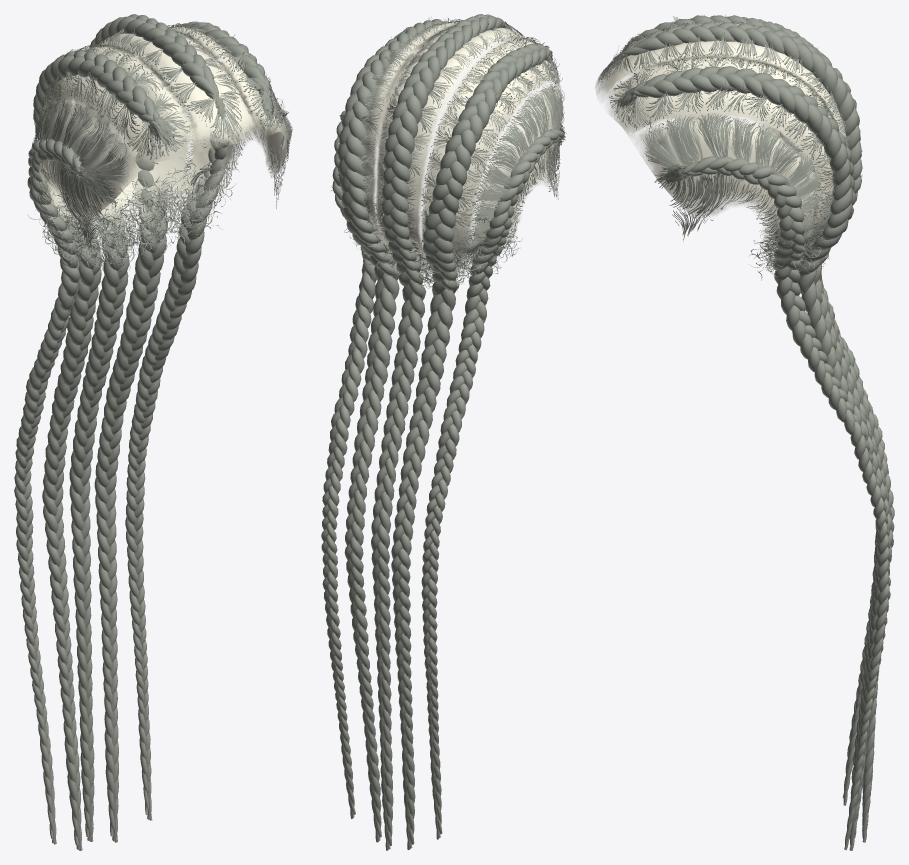
Rendered from Hair2.gltf.
3 views of the same model, side by side, from view 1: azimuth 30°, elevation 25°; view 2: azimuth 150°, elevation 25°; view 3: azimuth 270°, elevation 25° (orthographic). The views are drawn at different scales.
Visible parts, largest first — view 1: Imani Scalp_254252.Shape; view 2: Imani Scalp_254252.Shape; view 3: Imani Scalp_254252.Shape.
Part boxes in pixels (x1,y1,x2,y2): Imani Scalp_254252.Shape: (14,14,292,850); Imani Scalp_254252.Shape: (321,14,566,850); Imani Scalp_254252.Shape: (595,15,894,850).
Bounding box in the file's own units: 0.1724 × 0.6565 × 0.2181.
Materials: 2 (1 with a texture image).
